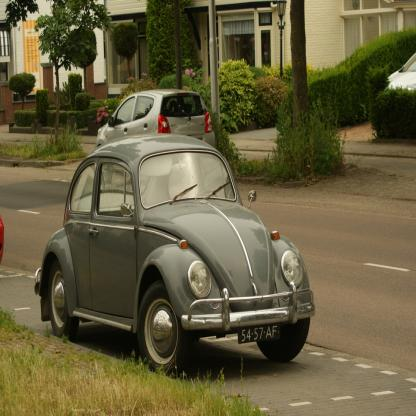Car: (44, 97, 311, 380), (96, 93, 218, 179)
